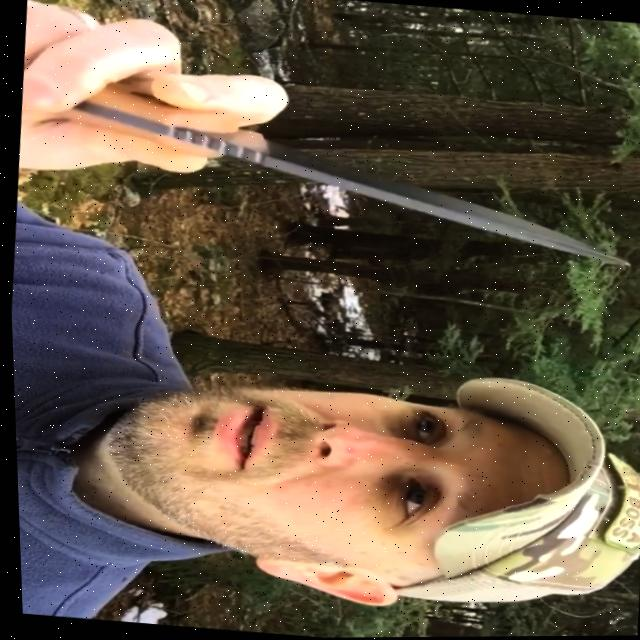knife: (58, 78, 640, 288)
